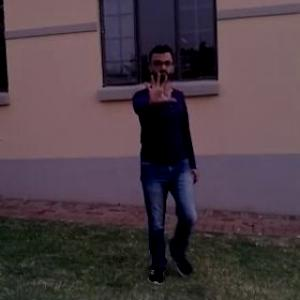follow_hand: (137, 64, 179, 107)
